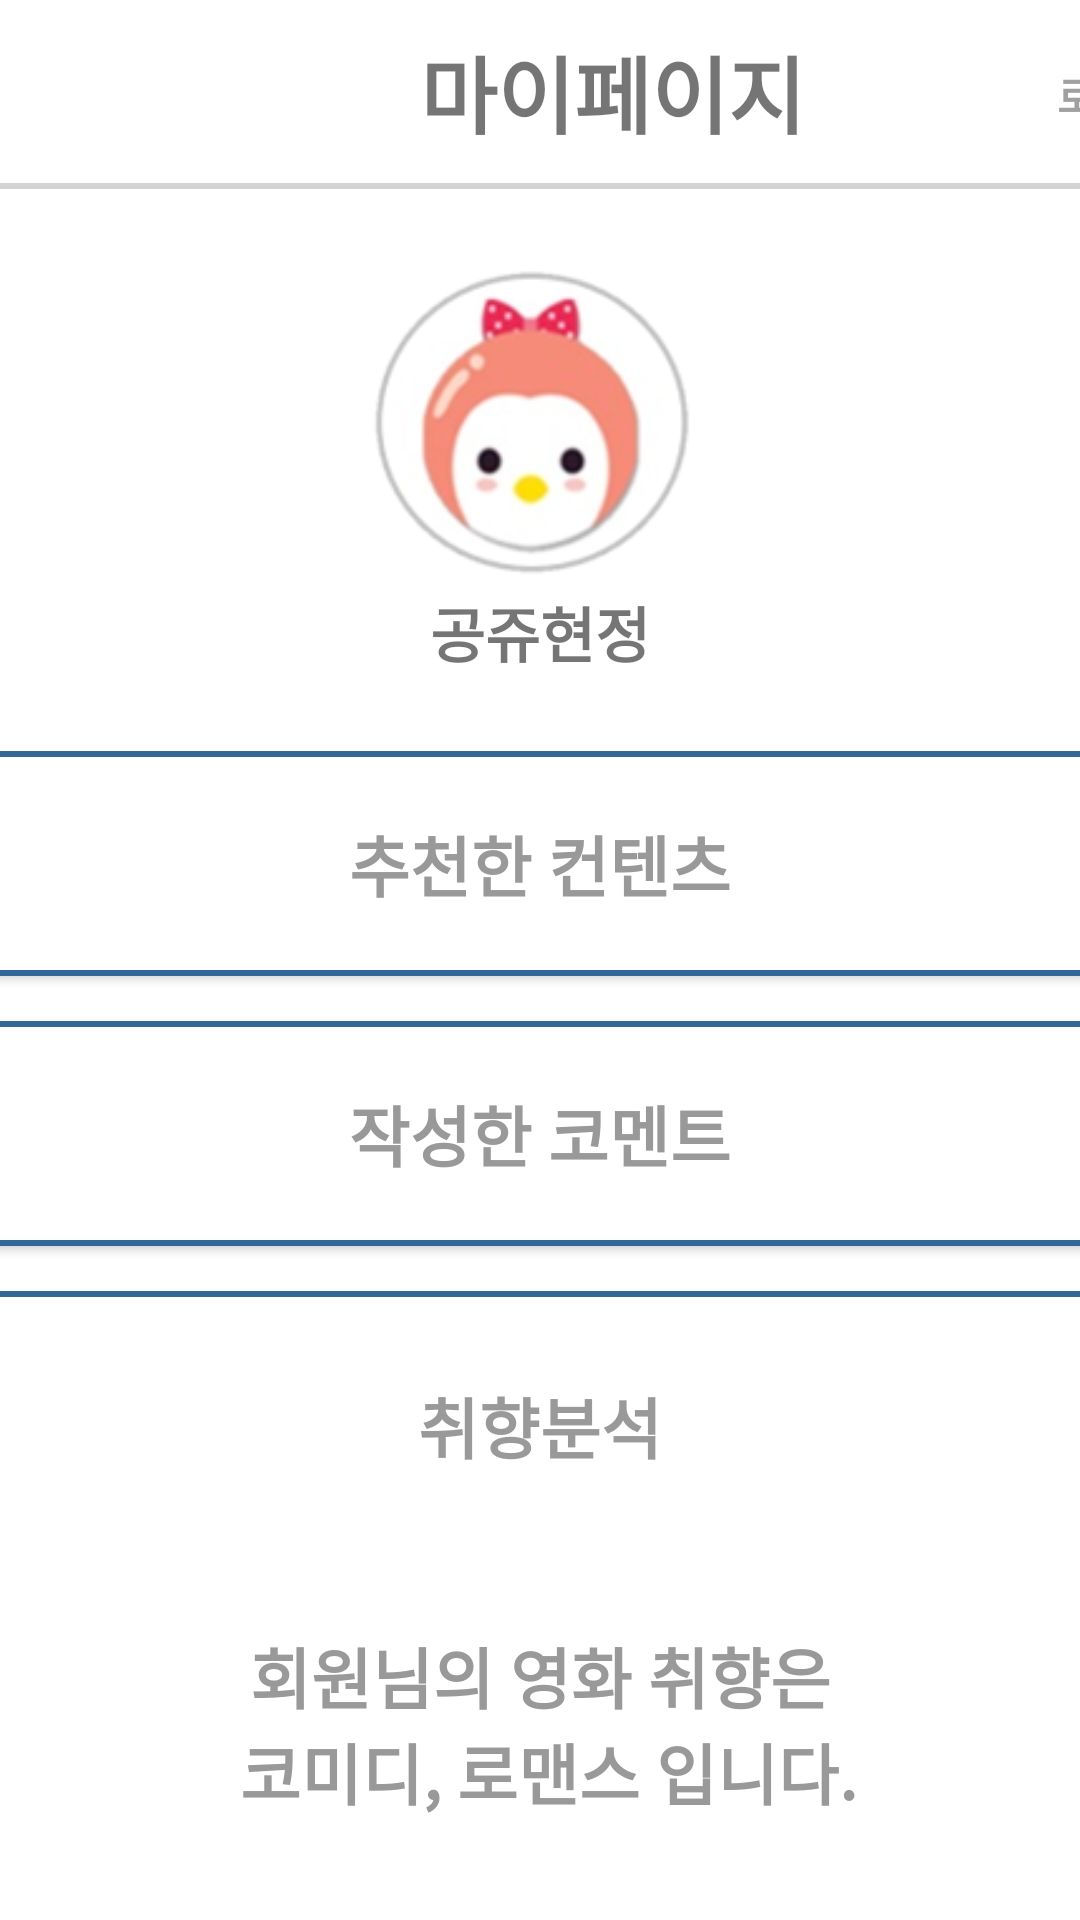

Where to tap for icons on this 1080 x 1920 app screen, as (x,y):
mypage user: (532,422)
